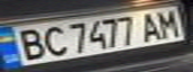4: (87, 17, 109, 51)
7: (66, 20, 90, 53), (118, 12, 139, 45), (103, 16, 124, 47)
A: (136, 10, 166, 42)
B: (9, 26, 48, 62)
C: (36, 24, 69, 57)
M: (151, 7, 184, 38)
